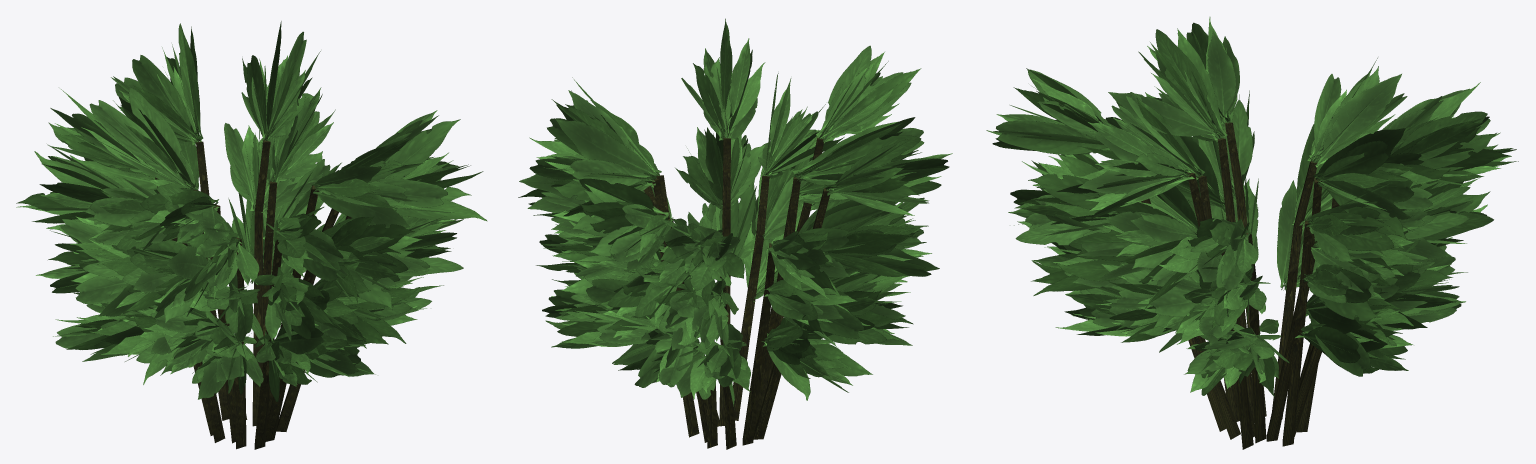
The model's file is understory_ginger_v01_LOD1.fbx.
The picture shows the model from 3 angles, left to right: view 1: azimuth 30°, elevation 25°; view 2: azimuth 150°, elevation 25°; view 3: azimuth 270°, elevation 25°; orthographic projection. The views are drawn at different scales.
Parts seen in each view (by area): view 1: understory_ginger_v01_LOD1; view 2: understory_ginger_v01_LOD1; view 3: understory_ginger_v01_LOD1.
Boxes of the visible parts, box(x1,y1,x2,y2) form: understory_ginger_v01_LOD1: box(16, 21, 487, 449); understory_ginger_v01_LOD1: box(518, 18, 952, 449); understory_ginger_v01_LOD1: box(986, 17, 1518, 449).
Size of the model in its own units: 117 by 98.71 by 131.
Materials: 2 (2 with a texture image).
